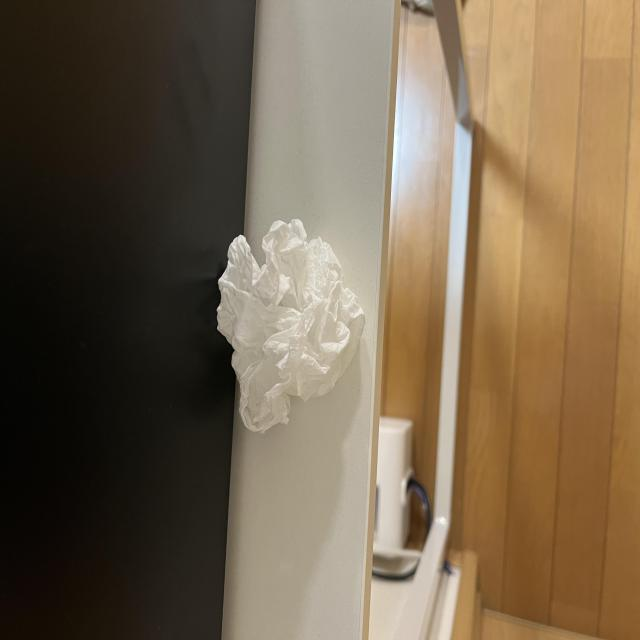衛生紙: (287, 162, 489, 326)
